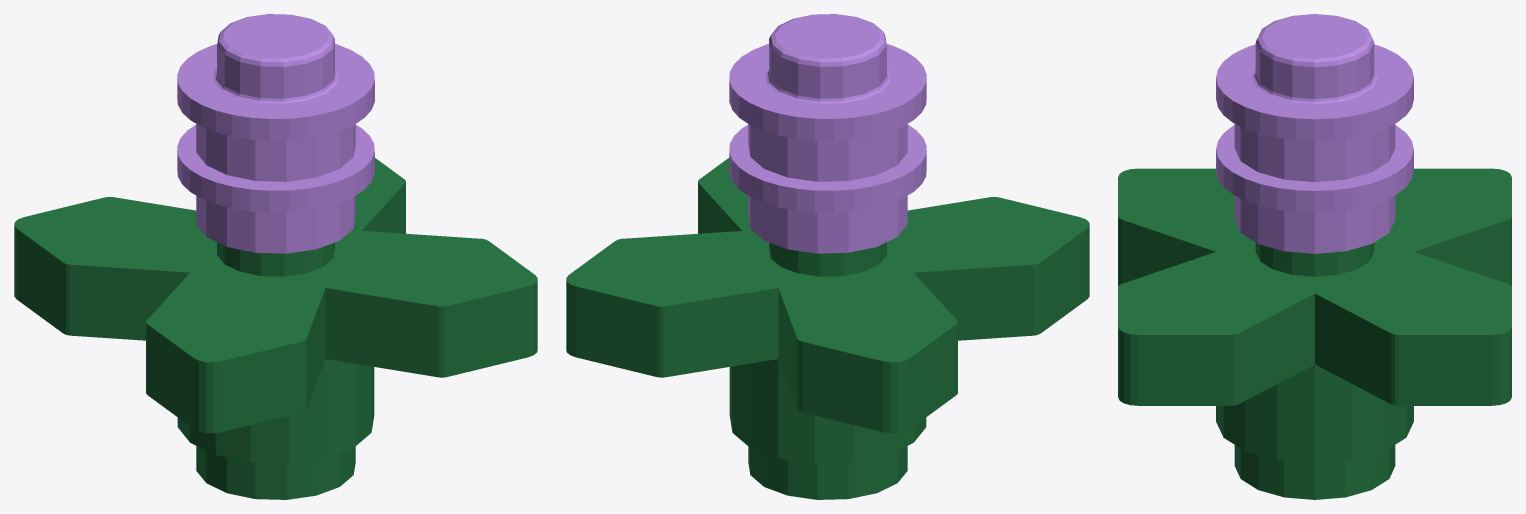
Rendered from flower_purple.glb.
3 renders of one model, left to right at view 1: azimuth 30°, elevation 25°; view 2: azimuth 150°, elevation 25°; view 3: azimuth 270°, elevation 25°, orthographic.
Parts seen in each view (by area): view 1: flower_purple; view 2: flower_purple; view 3: flower_purple.
Boxes of the visible parts, x1,y1,x2,y2 form: flower_purple: [14, 14, 537, 499]; flower_purple: [566, 14, 1089, 499]; flower_purple: [1118, 14, 1511, 499].
Size of the model in its own units: 0.7562 by 0.9101 by 0.7562.
